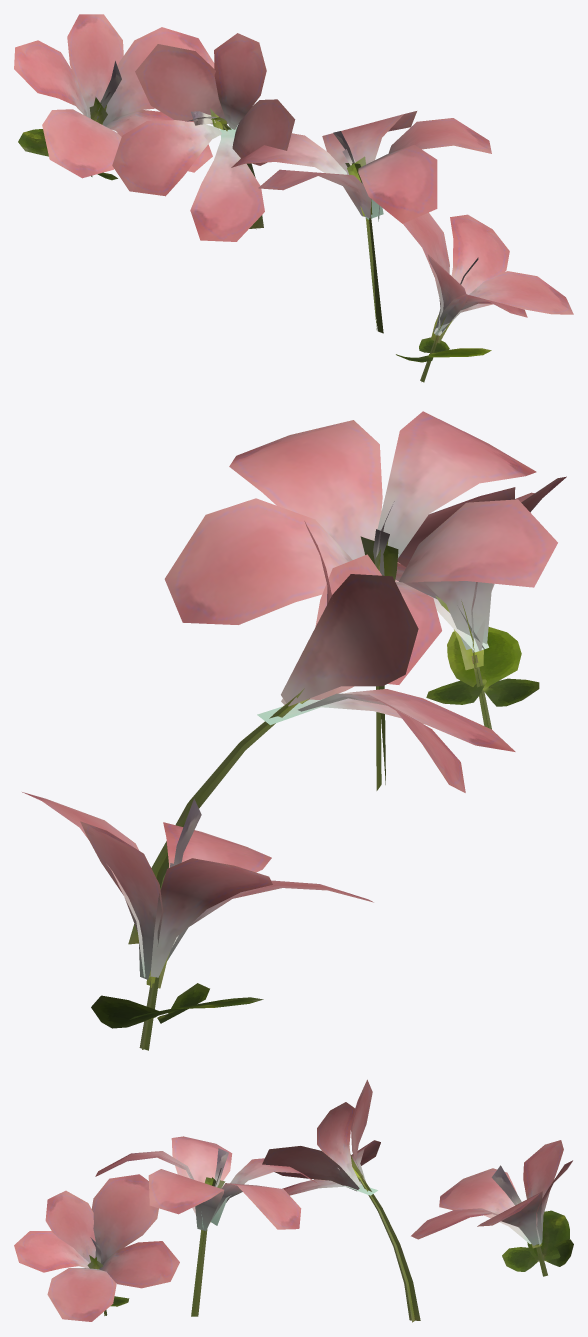
File: fleurs_02.fbx
3 renders of one model, top to bottom at view 1: azimuth 30°, elevation 25°; view 2: azimuth 150°, elevation 25°; view 3: azimuth 270°, elevation 25°, orthographic. The views are drawn at different scales.
Parts seen in each view (by area): view 1: _b868_Var1_LOD1.002, _b868_Var1_LOD1.003, _b868_Var1_LOD1.004, _b868_Var1_LOD1.006; view 2: _b868_Var1_LOD1.004, _b868_Var1_LOD1.002, _b868_Var1_LOD1.003, _b868_Var1_LOD1.006; view 3: _b868_Var1_LOD1.006, _b868_Var1_LOD1.003, _b868_Var1_LOD1.004, _b868_Var1_LOD1.002.
Part boxes in pixels (bbox=[...]): _b868_Var1_LOD1.002: bbox=[112, 33, 295, 241]; _b868_Var1_LOD1.003: bbox=[14, 14, 214, 180]; _b868_Var1_LOD1.004: bbox=[231, 111, 491, 333]; _b868_Var1_LOD1.006: bbox=[396, 212, 573, 382]; _b868_Var1_LOD1.004: bbox=[164, 411, 557, 790]; _b868_Var1_LOD1.002: bbox=[128, 521, 515, 944]; _b868_Var1_LOD1.003: bbox=[22, 792, 373, 1050]; _b868_Var1_LOD1.006: bbox=[395, 476, 566, 729]; _b868_Var1_LOD1.006: bbox=[14, 1174, 179, 1321]; _b868_Var1_LOD1.003: bbox=[411, 1140, 573, 1276]; _b868_Var1_LOD1.004: bbox=[95, 1136, 316, 1316]; _b868_Var1_LOD1.002: bbox=[262, 1079, 420, 1322].
Size of the model in its own units: 30.77 by 25.6 by 64.87.
